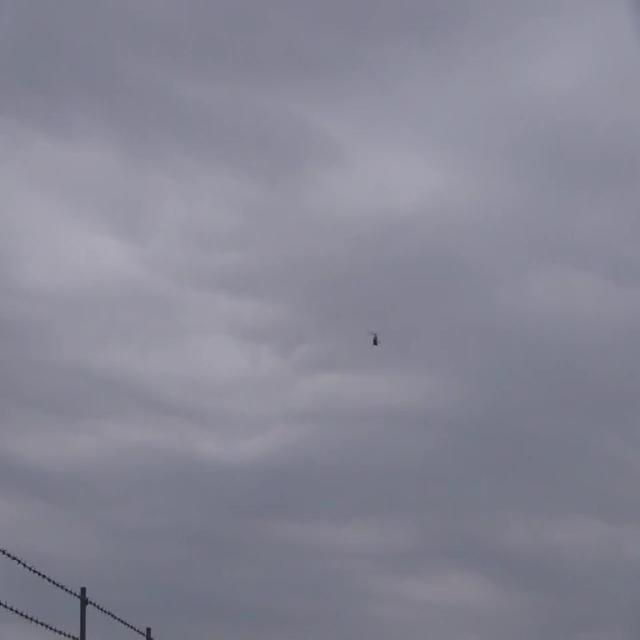Helicopter: (356, 316, 394, 358)
